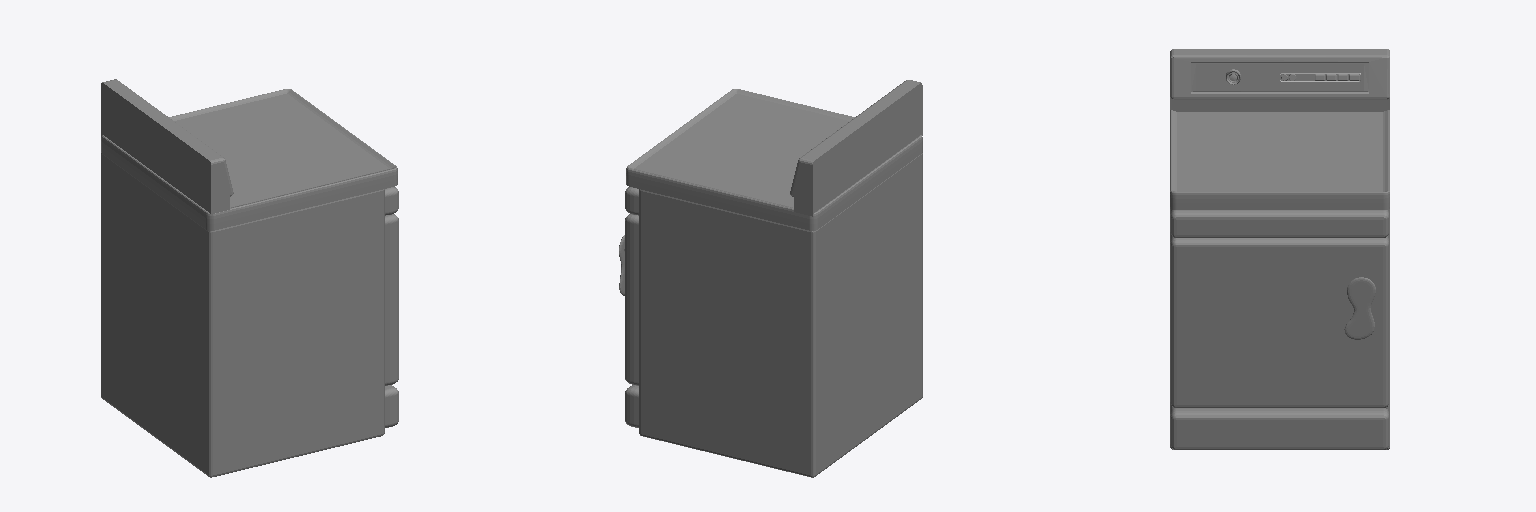
File: secadoras.obj
The picture shows the model from 3 angles: view 1: azimuth 30°, elevation 25°; view 2: azimuth 150°, elevation 25°; view 3: azimuth 270°, elevation 25°; orthographic projection.
Visible parts, largest first — view 1: secadoras; view 2: secadoras; view 3: secadoras.
Part boxes in pixels (bbox=[...]): secadoras: bbox=[101, 79, 398, 477]; secadoras: bbox=[619, 80, 922, 477]; secadoras: bbox=[1170, 49, 1389, 449].
Bounding box in the file's own units: 21.51 × 31.91 × 20.15.